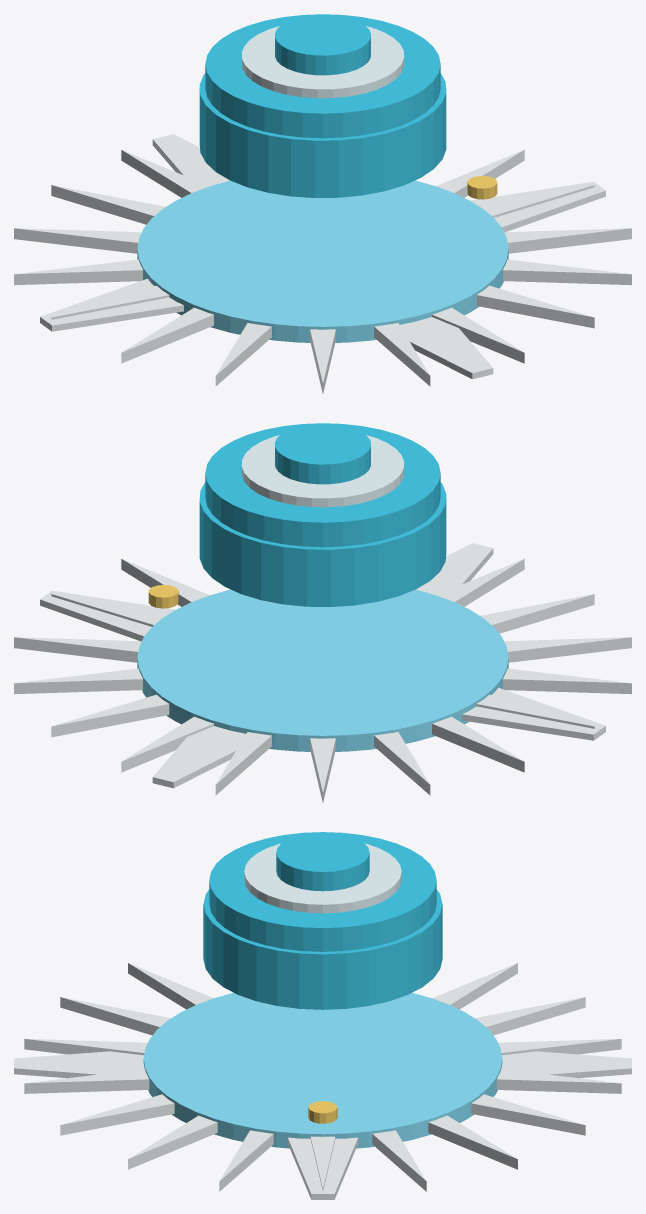
The model's file is cutter-v1.glb.
3 renders of one model, top to bottom at view 1: azimuth 30°, elevation 25°; view 2: azimuth 150°, elevation 25°; view 3: azimuth 270°, elevation 25°, orthographic. The views are drawn at different scales.
Parts seen in each view (by area): view 1: GB_Saw_Ring, GB_Hub_Base, GB_Hub_Outer_Ring, GB_FourArm_ROTATING, GB_Hub_Inner_Ring, GB_Hub_Cap, GB_Saw_Tooth_17, GB_Saw_Tooth_09, GB_Saw_Tooth_08, GB_Saw_Tooth_18, GB_Saw_Tooth_16, GB_Saw_Tooth_07 (+10 smaller); view 2: GB_Saw_Ring, GB_Hub_Base, GB_Hub_Outer_Ring, GB_FourArm_ROTATING, GB_Hub_Inner_Ring, GB_Hub_Cap, GB_Saw_Tooth_03, GB_Saw_Tooth_11, GB_Saw_Tooth_02, GB_Saw_Tooth_12, GB_Saw_Tooth_04, GB_Saw_Tooth_13 (+10 smaller); view 3: GB_Saw_Ring, GB_Hub_Base, GB_Hub_Outer_Ring, GB_FourArm_ROTATING, GB_Hub_Inner_Ring, GB_Hub_Cap, GB_Saw_Tooth_05, GB_Saw_Tooth_15, GB_Saw_Tooth_04, GB_Saw_Tooth_16, GB_Saw_Tooth_07, GB_Saw_Tooth_13 (+10 smaller).
Part boxes in pixels (left/top/right/bottom): GB_Saw_Ring: left=137, top=180, right=508, bottom=342; GB_Hub_Base: left=199, top=73, right=446, bottom=197; GB_Hub_Outer_Ring: left=205, top=14, right=440, bottom=138; GB_FourArm_ROTATING: left=40, top=134, right=605, bottom=379; GB_Hub_Inner_Ring: left=241, top=26, right=404, bottom=98; GB_Hub_Cap: left=275, top=15, right=370, bottom=75; GB_Saw_Tooth_17: left=503, top=259, right=631, bottom=285; GB_Saw_Tooth_09: left=14, top=259, right=142, bottom=285; GB_Saw_Tooth_08: left=14, top=228, right=141, bottom=253; GB_Saw_Tooth_18: left=504, top=228, right=631, bottom=253; GB_Saw_Tooth_16: left=476, top=285, right=594, bottom=328; GB_Saw_Tooth_07: left=51, top=185, right=165, bottom=224; GB_Saw_Ring: left=137, top=589, right=508, bottom=751; GB_Hub_Base: left=199, top=482, right=446, bottom=606; GB_Hub_Outer_Ring: left=205, top=423, right=440, bottom=547; GB_FourArm_ROTATING: left=40, top=543, right=605, bottom=788; GB_Hub_Inner_Ring: left=241, top=435, right=404, bottom=507; GB_Hub_Cap: left=275, top=424, right=370, bottom=484; GB_Saw_Tooth_03: left=14, top=668, right=142, bottom=694; GB_Saw_Tooth_11: left=503, top=668, right=631, bottom=694; GB_Saw_Tooth_02: left=14, top=637, right=141, bottom=662; GB_Saw_Tooth_12: left=504, top=637, right=631, bottom=662; GB_Saw_Tooth_04: left=51, top=694, right=169, bottom=737; GB_Saw_Tooth_13: left=480, top=594, right=594, bottom=633; GB_Saw_Ring: left=143, top=992, right=502, bottom=1148; GB_Hub_Base: left=203, top=889, right=442, bottom=1009; GB_Hub_Outer_Ring: left=209, top=832, right=436, bottom=951; GB_FourArm_ROTATING: left=14, top=1051, right=631, bottom=1199; GB_Hub_Inner_Ring: left=244, top=843, right=401, bottom=913; GB_Hub_Cap: left=276, top=832, right=369, bottom=891; GB_Saw_Tooth_05: left=496, top=1069, right=621, bottom=1093; GB_Saw_Tooth_15: left=24, top=1069, right=149, bottom=1093; GB_Saw_Tooth_04: left=471, top=1094, right=585, bottom=1135; GB_Saw_Tooth_16: left=60, top=1094, right=174, bottom=1135; GB_Saw_Tooth_07: left=475, top=997, right=585, bottom=1035; GB_Saw_Tooth_13: left=60, top=997, right=170, bottom=1035.
Size of the model in its own units: 4.24 by 1.68 by 4.24.
